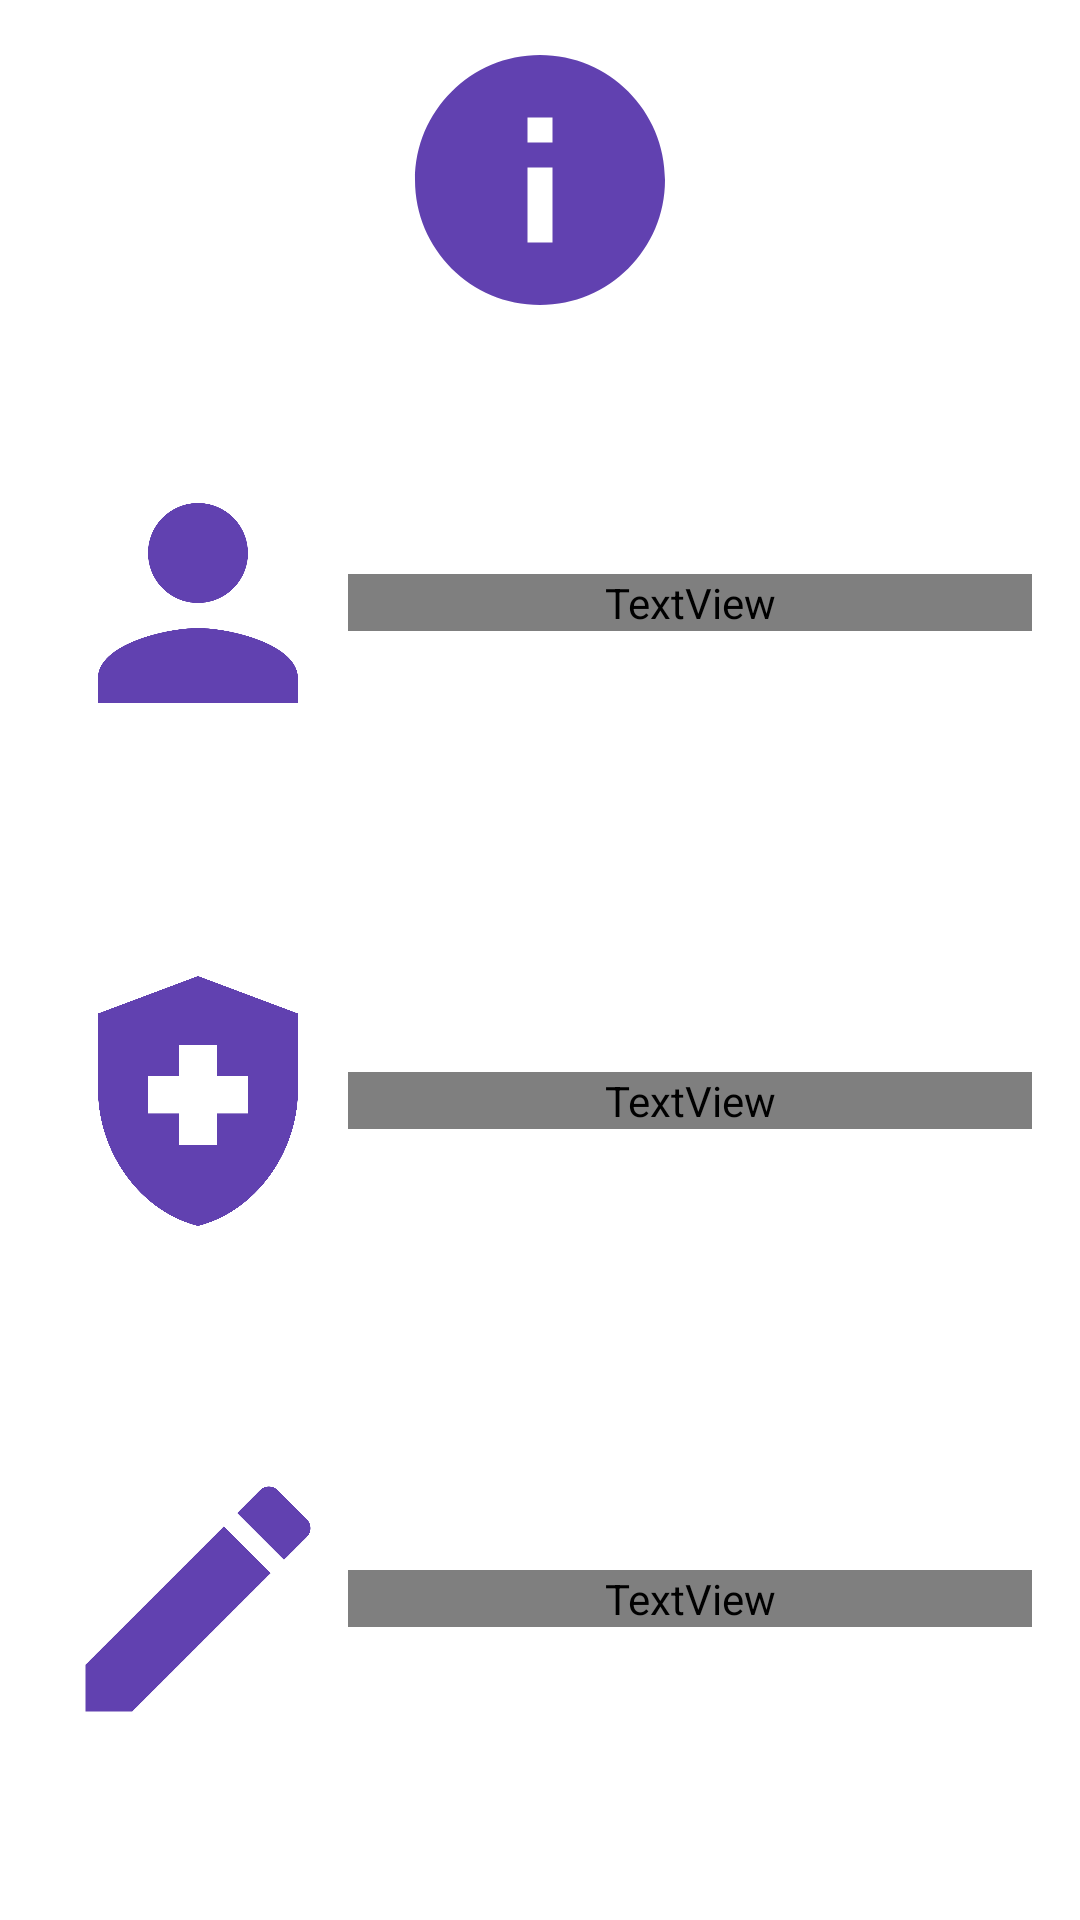

Where icons sit on this 1080x1920 app screen, as (x1, y1, x2, y2):
info: (415, 55, 665, 305)
